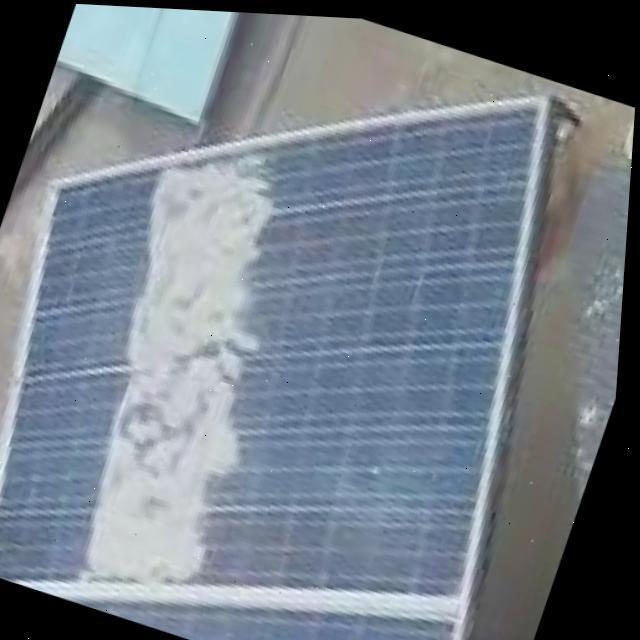Anomaly Solar Panel: (0, 84, 537, 591)
Snow: (82, 135, 290, 596)
